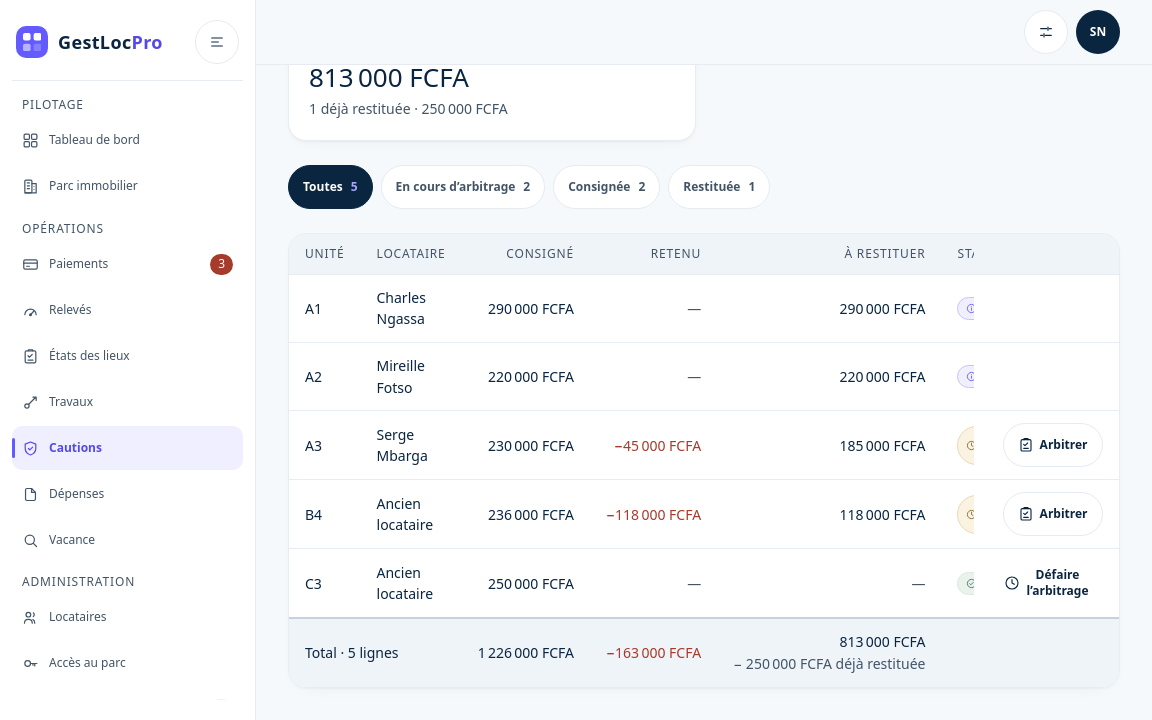
Test: arbitrage d’une caution › refuse une retenue non justifiée
(page scrolled)
Click the button "Arbitrer" in the row of "A3". click: x=1053, y=445
box: [1003, 423, 1103, 467]
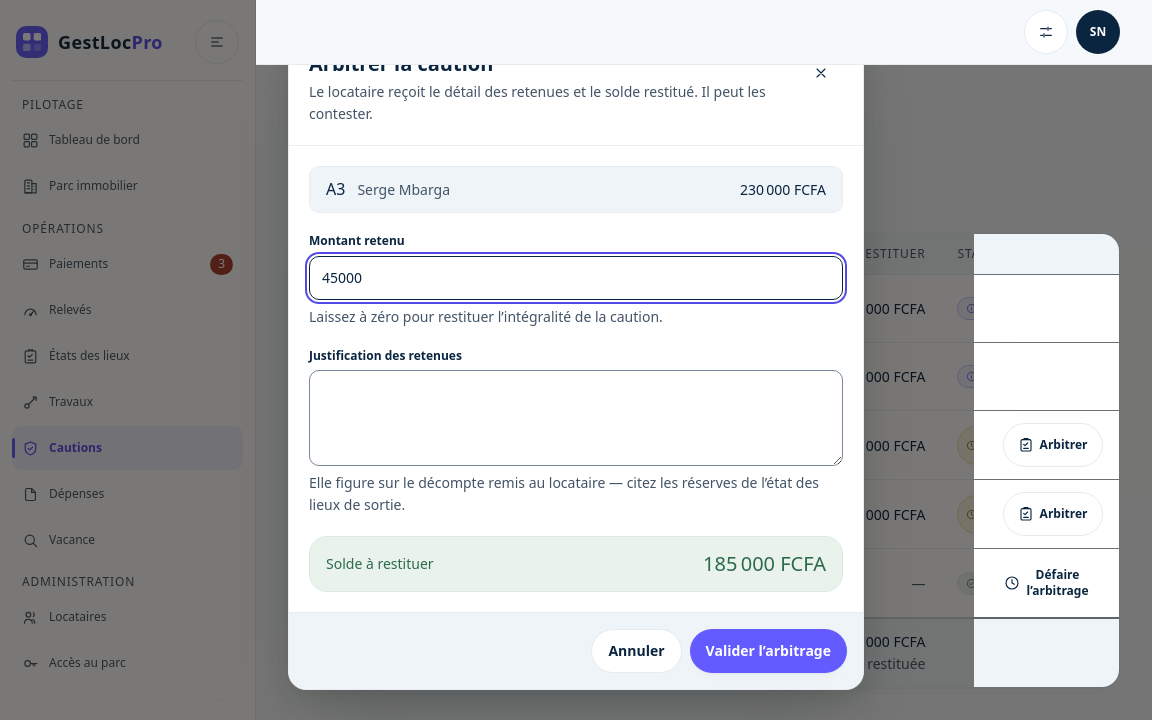
Click the button "Valider l’arbitrage". click: x=768, y=651
box: [690, 629, 847, 673]
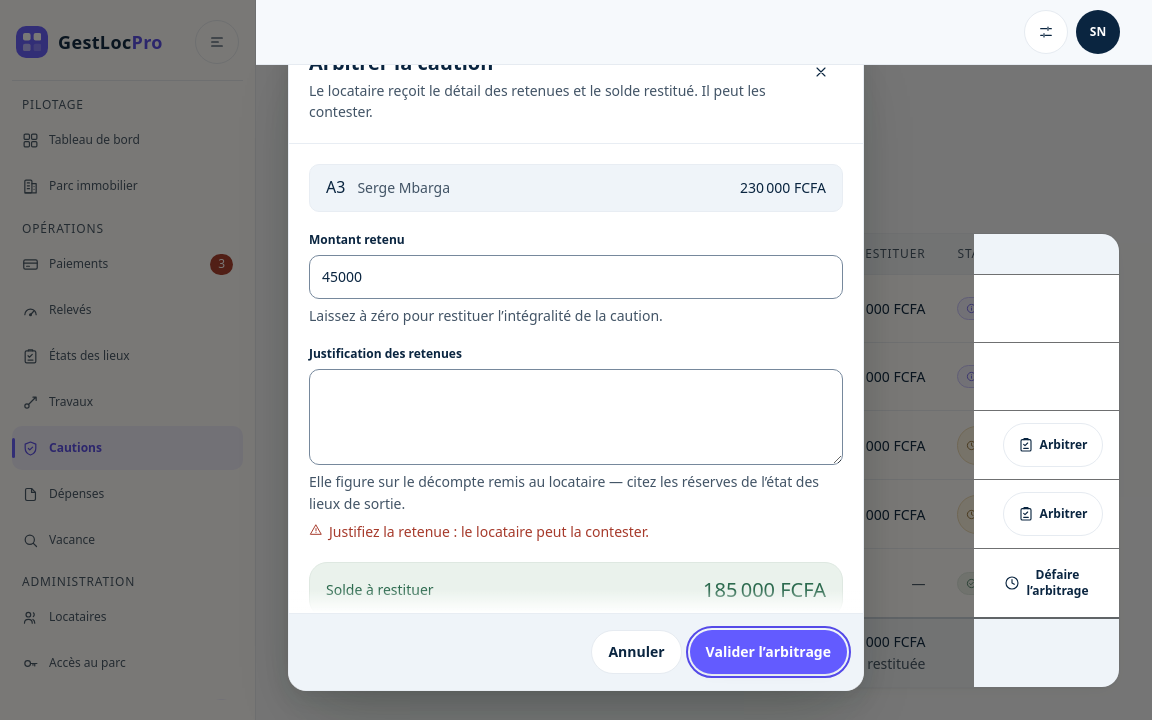
Expected: the text "Justifiez la retenue : le locataire peut la contester." is shown, [309, 522, 649, 540]
